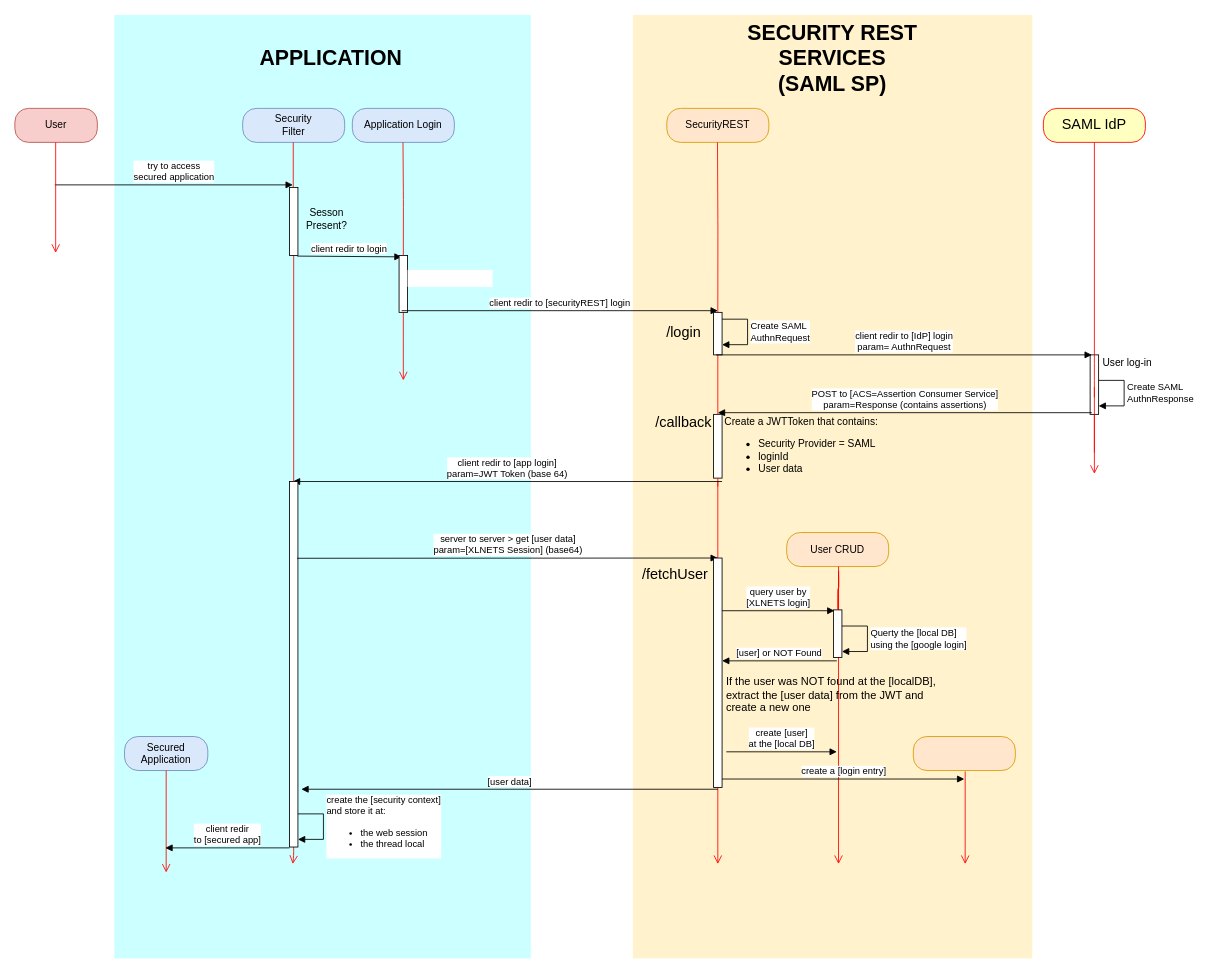
This 1209x972 diagram has some shape labels left out. Each missing label, with the centre of its shape:
"Login EntryCRUD" goes at point (963, 753).
"Login Page SAML clicked" goes at point (449, 277).
